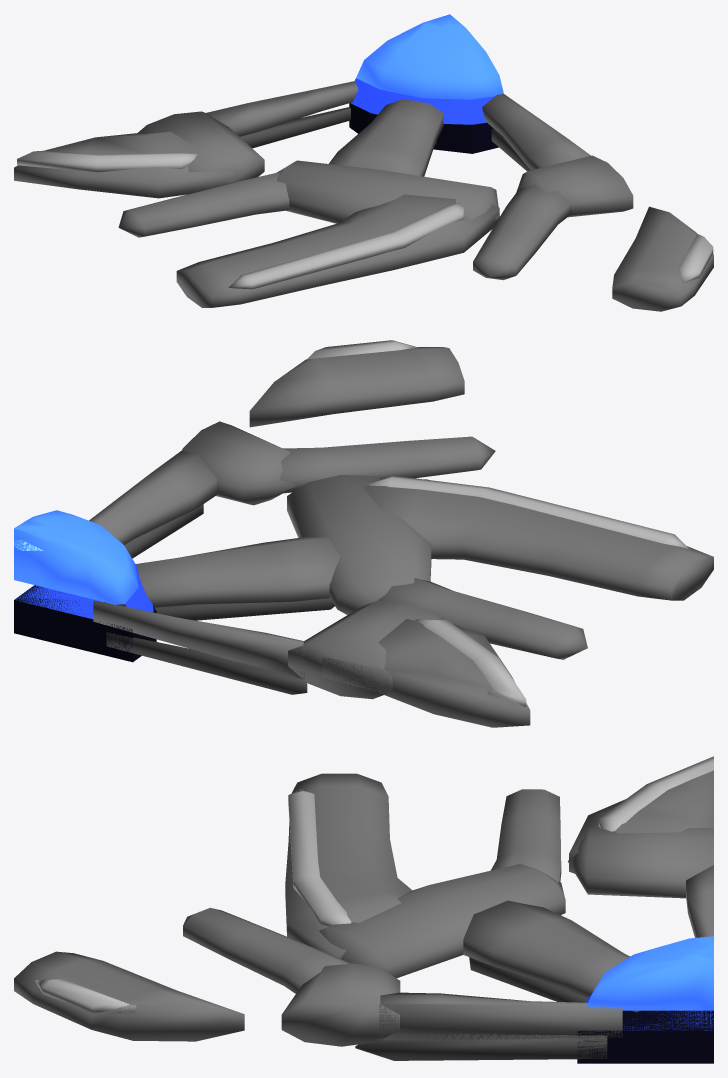
Rendered from newsh-hash-195.glb.
The picture shows the model from 3 angles, top to bottom: view 1: azimuth 30°, elevation 25°; view 2: azimuth 150°, elevation 25°; view 3: azimuth 270°, elevation 25°; orthographic projection. The views are drawn at different scales.
Parts seen in each view (by area): view 1: newsh-hash-195; view 2: newsh-hash-195; view 3: newsh-hash-195.
Part boxes in pixels (bbox=[...]): newsh-hash-195: bbox=[14, 14, 713, 311]; newsh-hash-195: bbox=[14, 340, 713, 727]; newsh-hash-195: bbox=[14, 756, 713, 1063].
Size of the model in its own units: 1.62 by 0.3156 by 1.91.
